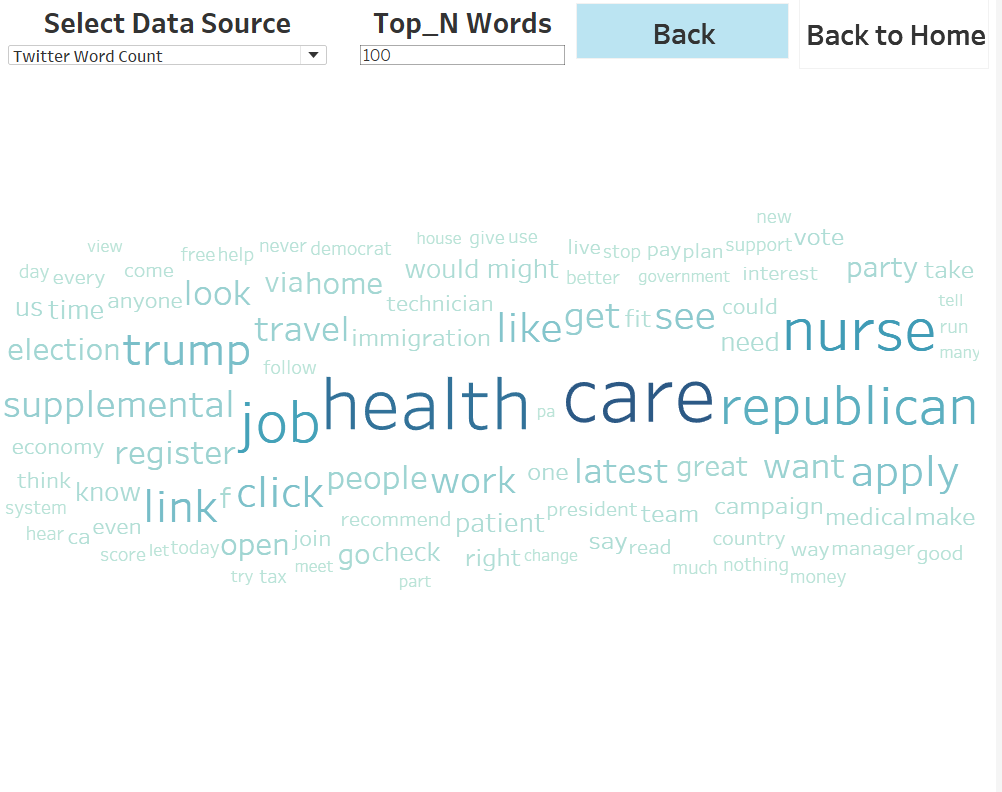

What the dashboard file says about the page in this screenshot:
{"tool":"tableau","page":{"name":"small_wcount_dash","canvas":[1000,800],"ordinal":6},"visuals":[{"type":"worksheet","title":"Back","mark":"Automatic","box":[803,0,190,73]},{"type":"parameter","param":"[Parameters].[Parameter 1]","box":[9,7,325,90]},{"type":"parameter","param":"[Parameters].[Parameter 3]","box":[361,7,211,80]},{"type":"worksheet","title":"Back_1","mark":"Automatic","box":[580,7,213,56]},{"type":"worksheet","title":"small_cc","mark":"Text","box":[18,97,974,700]},{"type":"worksheet","title":"small_ny","mark":"Text","box":[17,100,977,699]},{"type":"worksheet","title":"small_twitter","mark":"Text","box":[5,103,978,700]}]}

Visuals, with their boxes in screenshot pixels (x1, y1, x2, y2), scaled from the page's 1000x800 canvas onto the 1002x792 screenshot:
"Back" worksheet: 805,0,995,72
parameter: 9,7,335,96
parameter: 362,7,573,86
"Back_1" worksheet: 581,7,795,62
"small_cc" worksheet (Text marks): 18,96,994,789
"small_ny" worksheet (Text marks): 17,99,996,791
"small_twitter" worksheet (Text marks): 5,102,985,791
